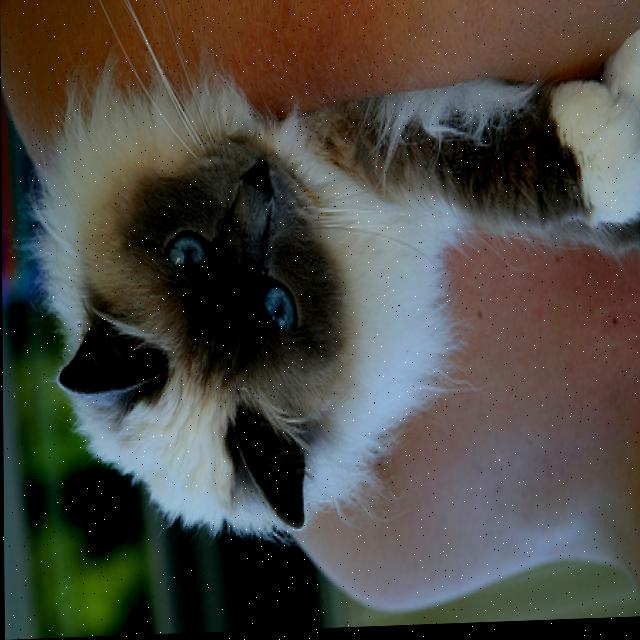Birman: (29, 49, 474, 554)
